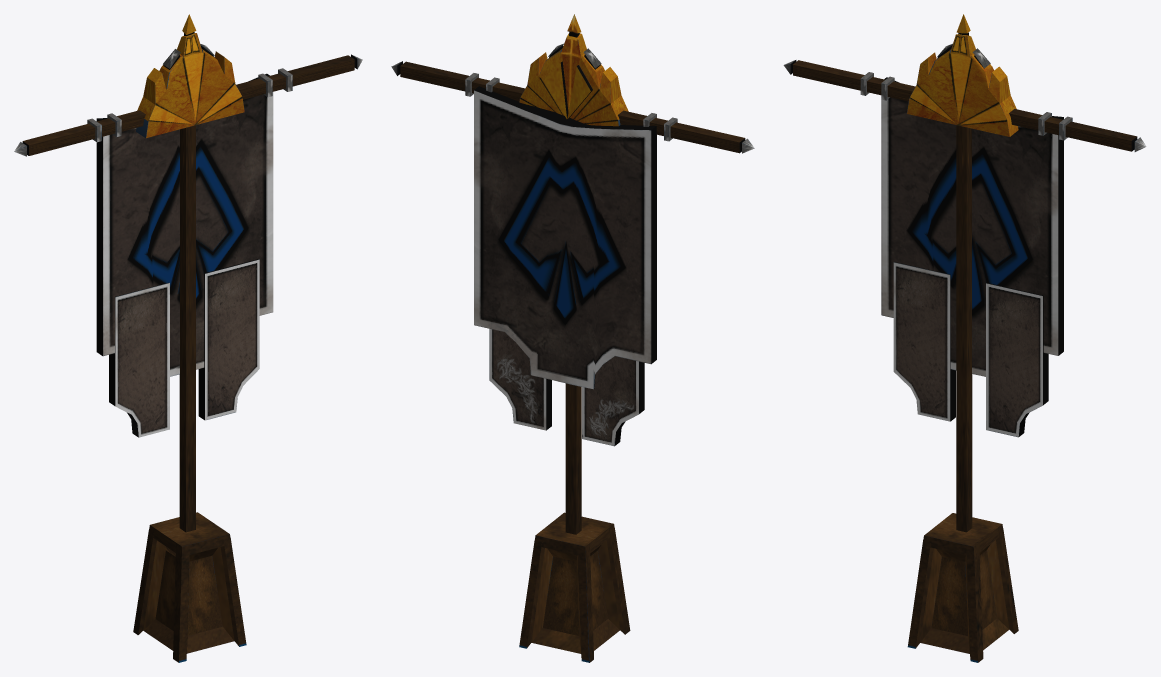
Rendered from Banner_Gluttony.fbx.
3 renders of one model, left to right at view 1: azimuth 30°, elevation 25°; view 2: azimuth 150°, elevation 25°; view 3: azimuth 330°, elevation 25°, orthographic.
Visible parts, largest first — view 1: polySurface279, polySurface272, polySurface280, polySurface281, polySurface273, polySurface271, polySurface274; view 2: polySurface279, polySurface272, polySurface273, polySurface281, polySurface280, polySurface274, polySurface271; view 3: polySurface279, polySurface272, polySurface280, polySurface281, polySurface273, polySurface271, polySurface274.
Boxes of the visible parts, left/top/right/bottom form: polySurface279: left=96, top=73, right=273, bottom=376; polySurface272: left=133, top=512, right=246, bottom=662; polySurface280: left=198, top=259, right=259, bottom=420; polySurface281: left=109, top=282, right=169, bottom=437; polySurface273: left=136, top=14, right=244, bottom=138; polySurface271: left=179, top=125, right=195, bottom=532; polySurface274: left=14, top=54, right=362, bottom=156; polySurface279: left=474, top=86, right=656, bottom=389; polySurface272: left=519, top=512, right=630, bottom=662; polySurface273: left=519, top=14, right=628, bottom=126; polySurface281: left=582, top=356, right=644, bottom=446; polySurface280: left=489, top=328, right=551, bottom=430; polySurface274: left=391, top=61, right=754, bottom=153; polySurface271: left=565, top=383, right=581, bottom=534; polySurface279: left=881, top=77, right=1063, bottom=376; polySurface272: left=907, top=513, right=1018, bottom=662; polySurface280: left=986, top=283, right=1048, bottom=437; polySurface281: left=893, top=262, right=955, bottom=421; polySurface273: left=906, top=14, right=1018, bottom=136; polySurface271: left=956, top=125, right=972, bottom=532; polySurface274: left=783, top=60, right=1146, bottom=151.
Bounding box in the file's own units: 4.38 × 7.35 × 0.9491.
